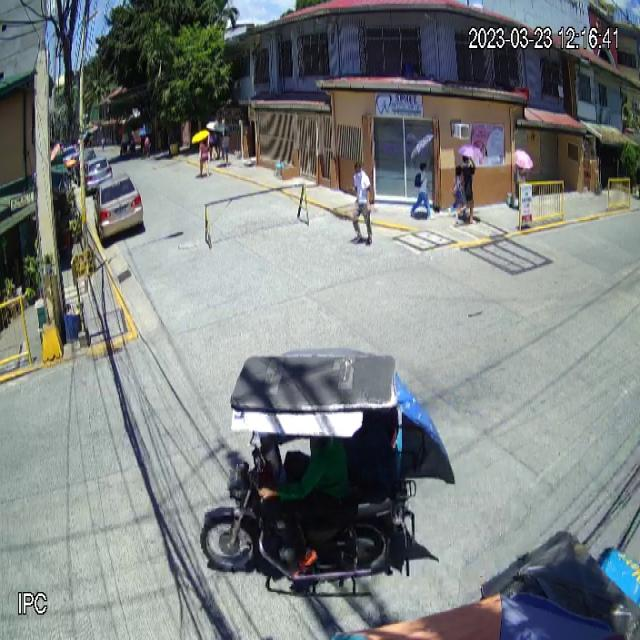Tricycle: (199, 348, 424, 593)
